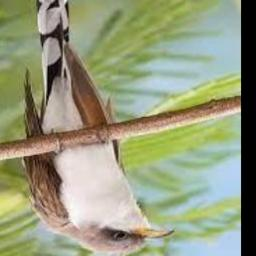Cuckoo: (22, 0, 174, 255)
